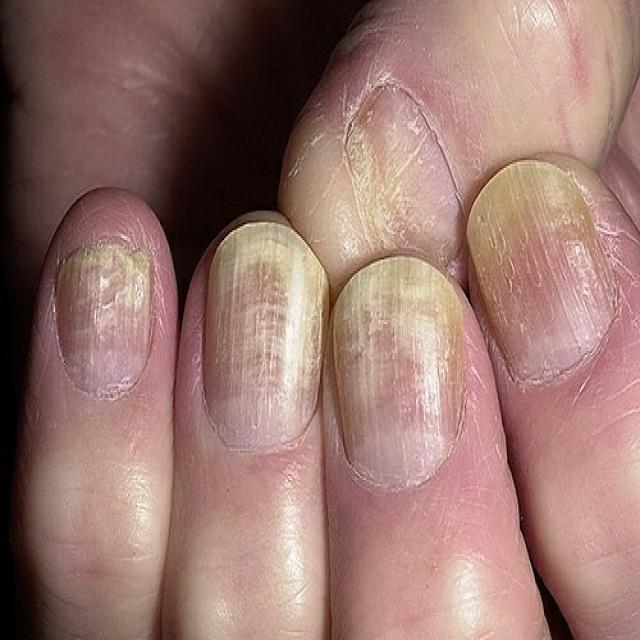diabetes: (467, 163, 611, 380), (331, 254, 465, 483), (201, 220, 330, 450), (346, 81, 464, 272), (53, 246, 153, 392)
